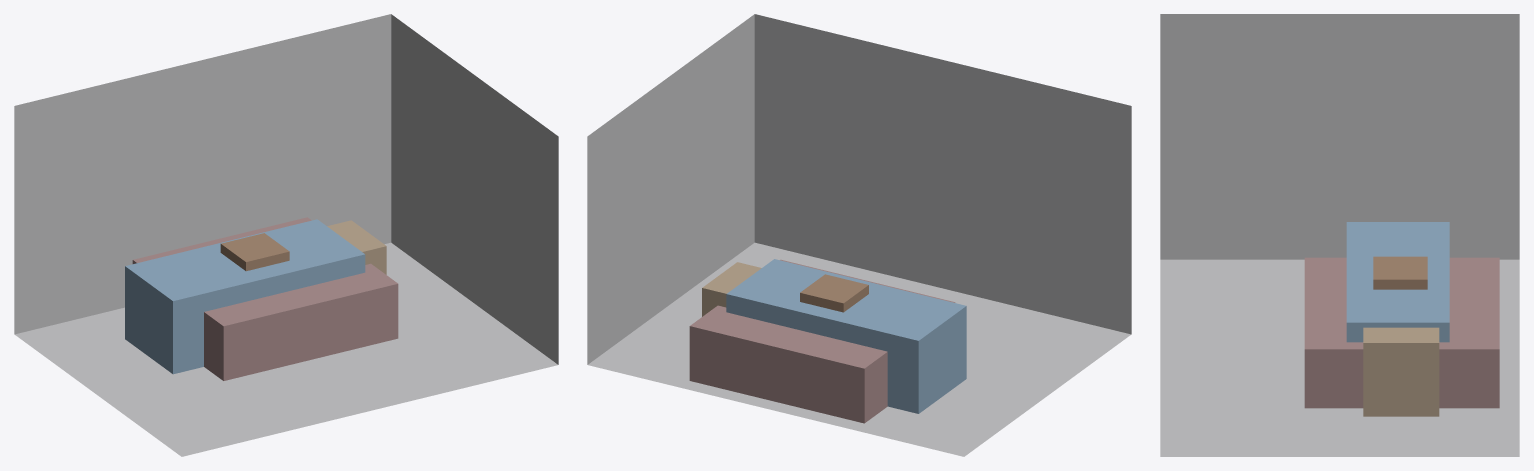
The model's file is optimised_layout.glb.
3 views of the same model, side by side, from view 1: azimuth 30°, elevation 25°; view 2: azimuth 150°, elevation 25°; view 3: azimuth 270°, elevation 25° (orthographic). The views are drawn at different scales.
Visible parts, largest first — view 1: room, couch, bed, chair, desk; view 2: room, couch, bed, chair, desk; view 3: room, bed, couch, desk, chair.
Boxes of the visible parts, <box> form: room: <box>14,14,558,456</box>; couch: <box>125,219,365,374</box>; bed: <box>132,217,398,380</box>; chair: <box>220,233,289,271</box>; desk: <box>327,220,386,274</box>; room: <box>587,14,1131,456</box>; couch: <box>726,259,966,413</box>; bed: <box>689,259,955,423</box>; chair: <box>800,274,868,312</box>; desk: <box>702,262,761,316</box>; room: <box>1160,14,1519,456</box>; bed: <box>1304,257,1499,408</box>; couch: <box>1346,222,1449,342</box>; desk: <box>1363,327,1439,416</box>; chair: <box>1373,256,1427,289</box>.
Size of the model in its own units: 4.31 by 2.5 by 3.32.
